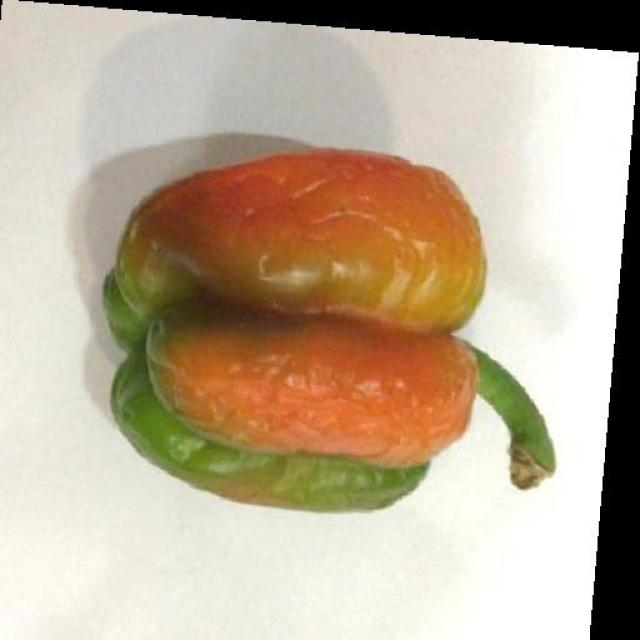Stale_Capsicum: (121, 111, 569, 554)
